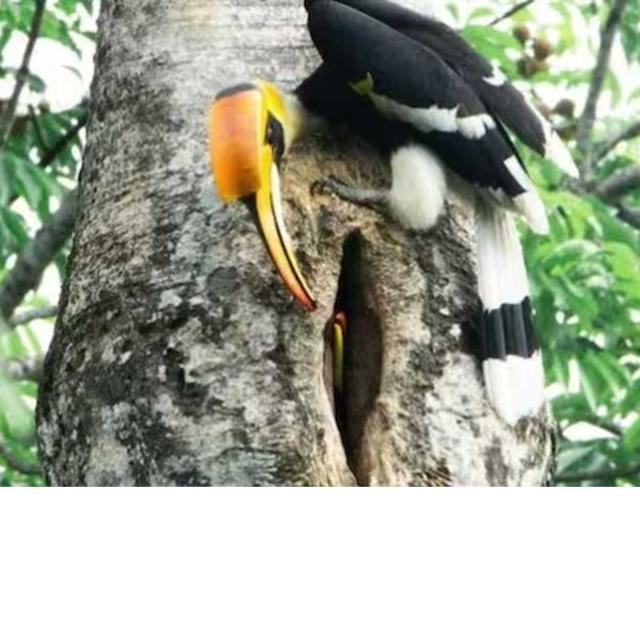Hornbill: (204, 0, 552, 424)
